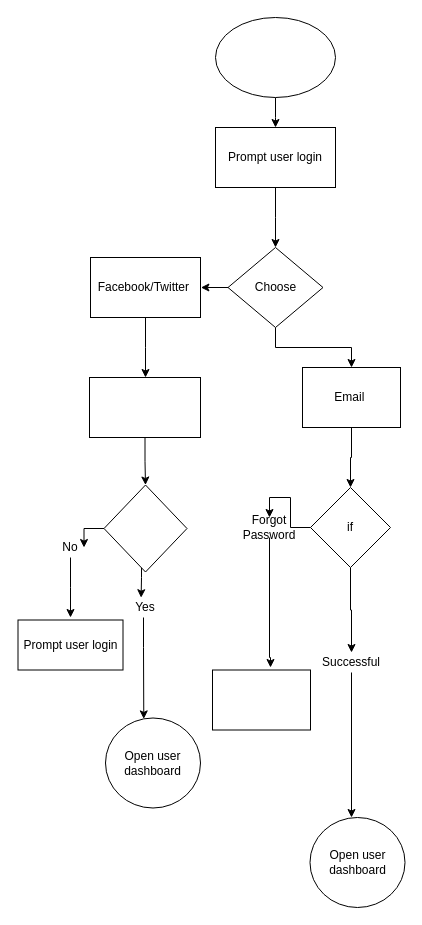
This 422x925 diagram has some shape labels left out. The centre of each missing label's shape, as x and y in pixels:
"Facebook/Twitter verification" goes at pixel 144 407.
"OK?" goes at pixel 145 528.
"Reset Password" goes at pixel 261 699.
"User opens application" goes at pixel 275 57.
